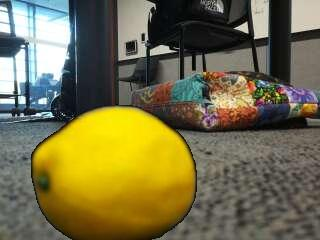lemon: (32, 106, 196, 240)
